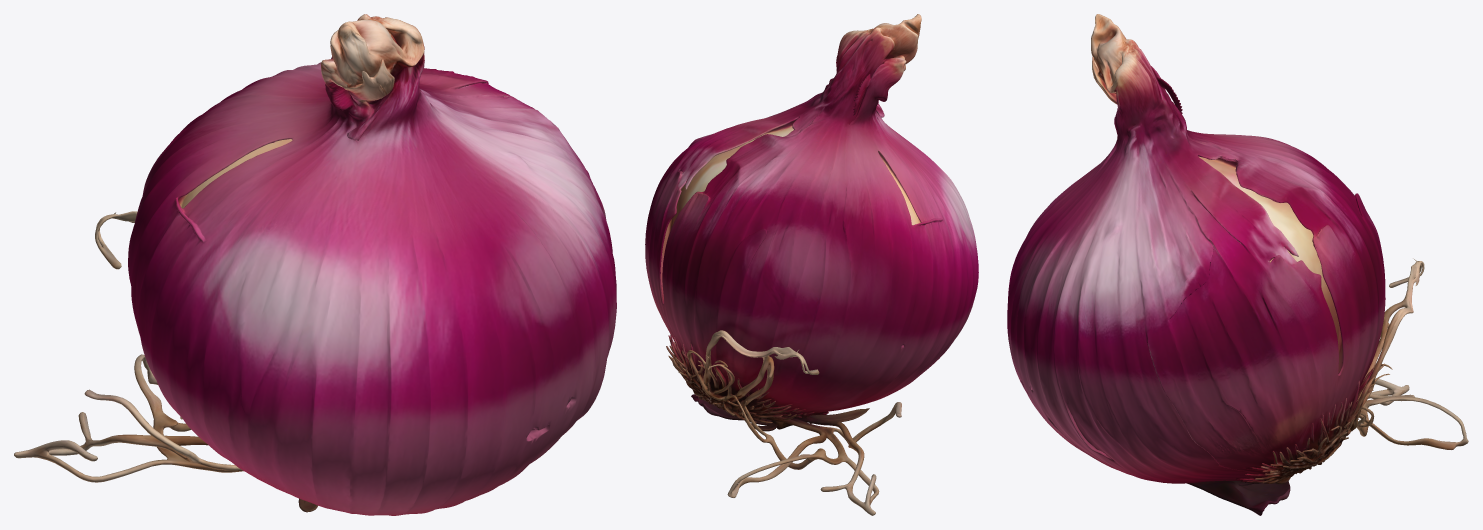
The model's file is Onion.fbx.
The picture shows the model from 3 angles, left to right: view 1: azimuth 30°, elevation 25°; view 2: azimuth 150°, elevation 25°; view 3: azimuth 270°, elevation 25°; orthographic projection. The views are drawn at different scales.
Parts seen in each view (by area): view 1: tripo_node_95ec716a; view 2: tripo_node_95ec716a; view 3: tripo_node_95ec716a.
Boxes of the visible parts, x1=… form: tripo_node_95ec716a: x1=14, y1=14, x2=616, y2=515; tripo_node_95ec716a: x1=645, y1=14, x2=978, y2=515; tripo_node_95ec716a: x1=1007, y1=14, x2=1468, y2=515.
Size of the model in its own units: 81.64 by 95.33 by 98.01.
1 material, 1 textured.
